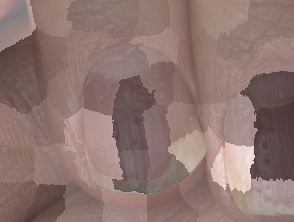Nail_psoriasis: (67, 32, 231, 205), (224, 72, 294, 219)
